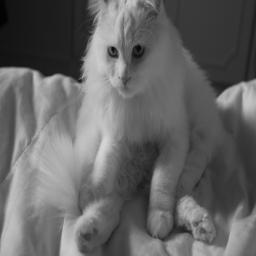catnose: (118, 74, 131, 85)
